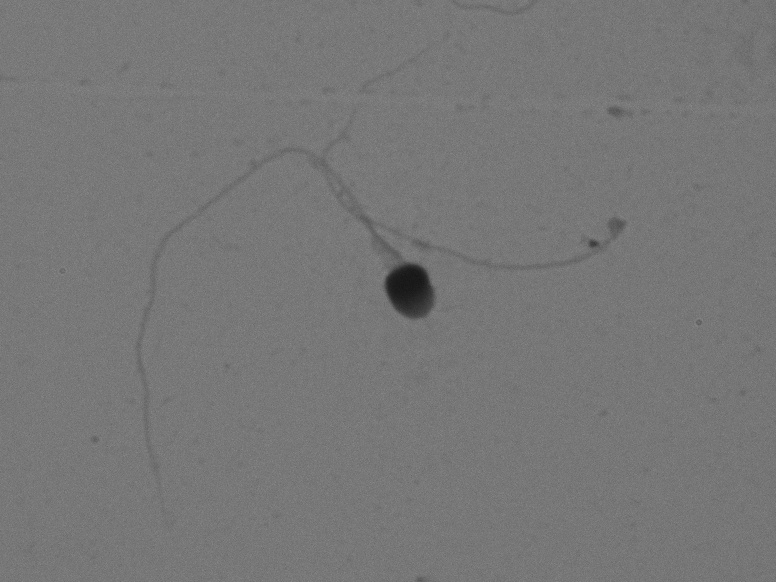Abnormal: (89, 103, 454, 538), (287, 22, 672, 296)
